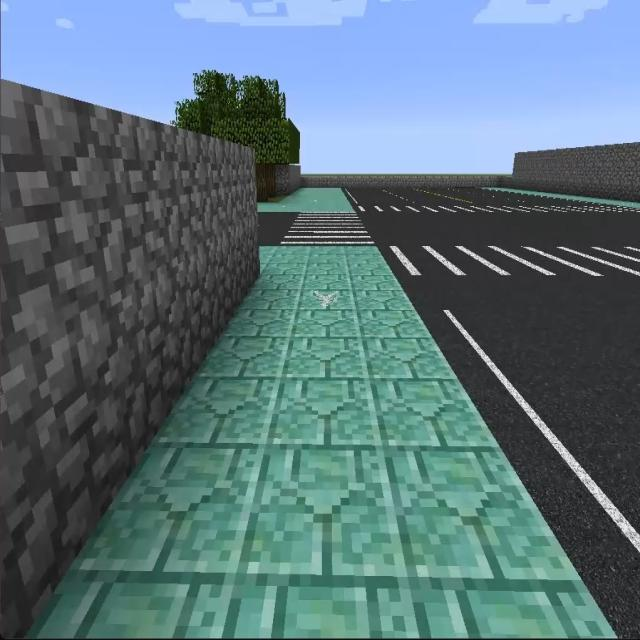crosswalk: (375, 236, 638, 287), (350, 199, 639, 213), (279, 211, 383, 246)
road: (412, 281, 636, 630), (368, 211, 639, 242), (348, 187, 542, 204), (259, 212, 295, 246)
sidewalk: (28, 246, 615, 639), (259, 188, 351, 212)
